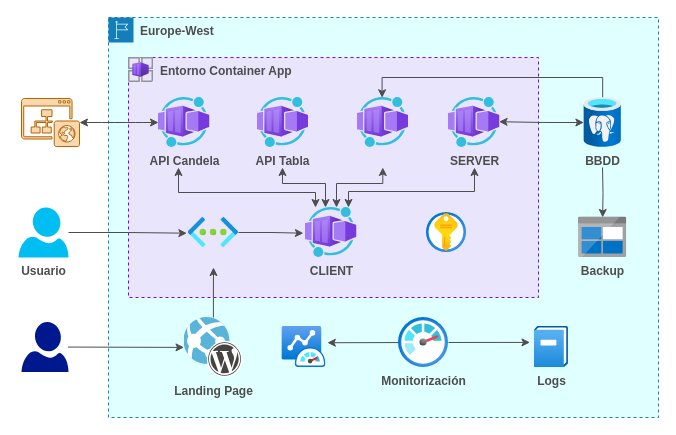
Image size: 676x435. Some labels were removed from this diagram. Each missing label, with the box of its shape:
Actualizar Tabla: (356, 97, 408, 147)
Candela: (20, 98, 80, 146)
Container Secrets: (426, 212, 466, 252)
Customer: (21, 322, 68, 372)
Dashboard: (281, 326, 326, 367)
Ingress: (188, 217, 238, 247)
